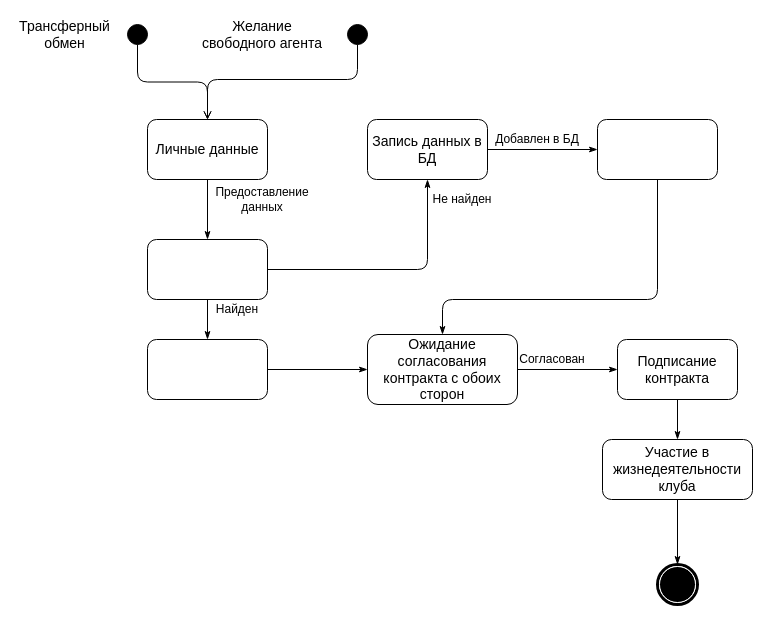
This 770x622 diagram has some shape labels left out. The shapes that lost their labels are listed below. From the top down, each one's centre as x and y in pixels, then its label:
the point at 657,149: Формирование условий контракта
the point at 207,269: Поиск агента в БД
the point at 207,369: Просмотр записи
